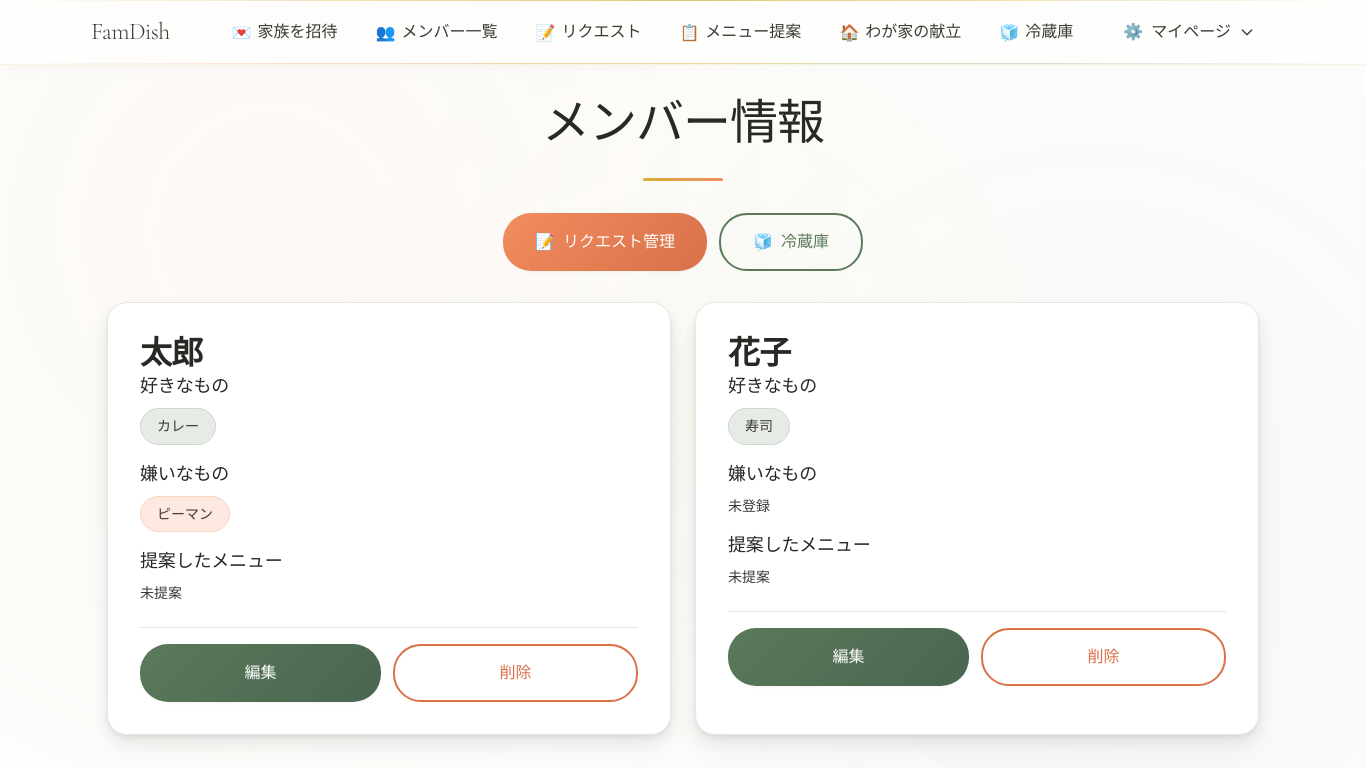
Test: MemberForm › 編集モーダルで「キャンセル」すると閉じる
Expected: the heading "太郎" is shown, [140,334,203,373]
Click the button "編集" below "ピーマン": (260, 673) [140,644,381,702]
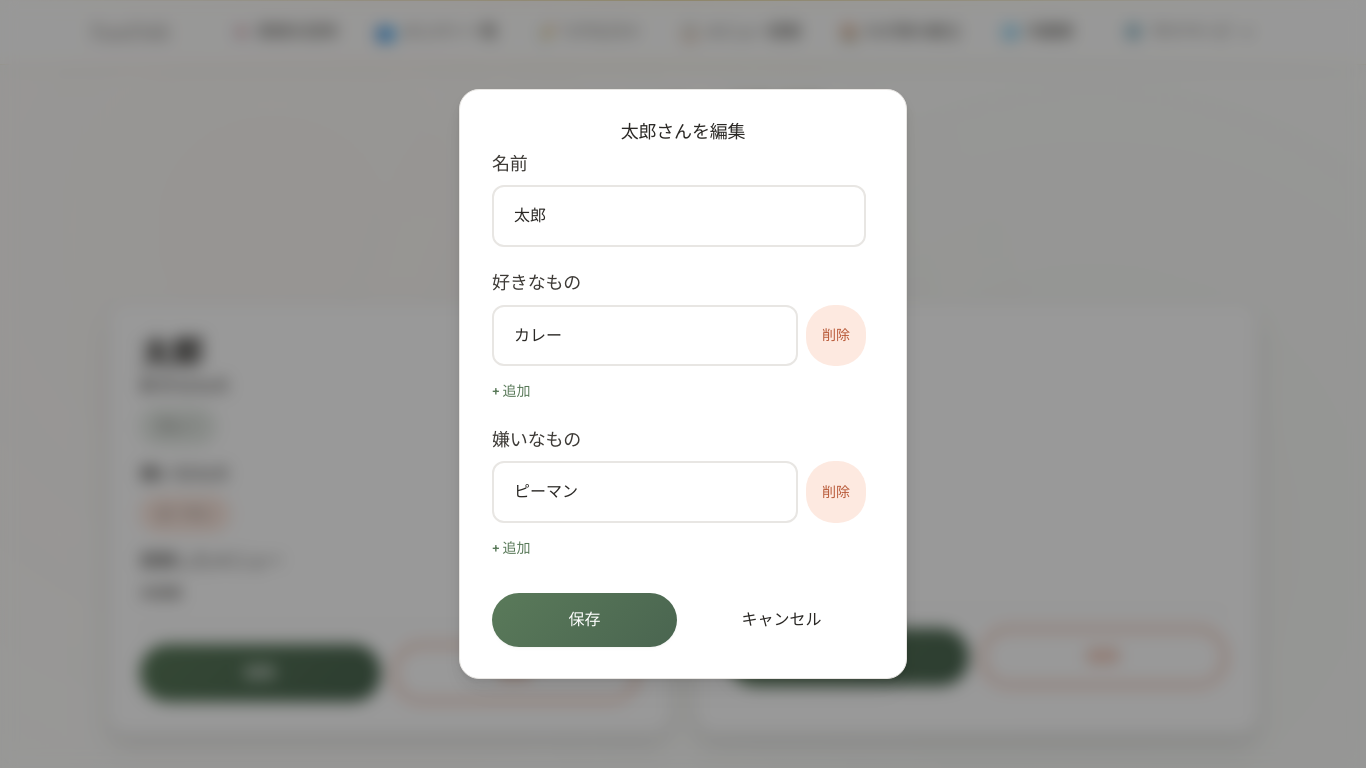
Expected: the heading "太郎さんを編集" is shown, [621,121,745,143]
Click the button "キャンセル": (782, 619) [689,592,874,646]
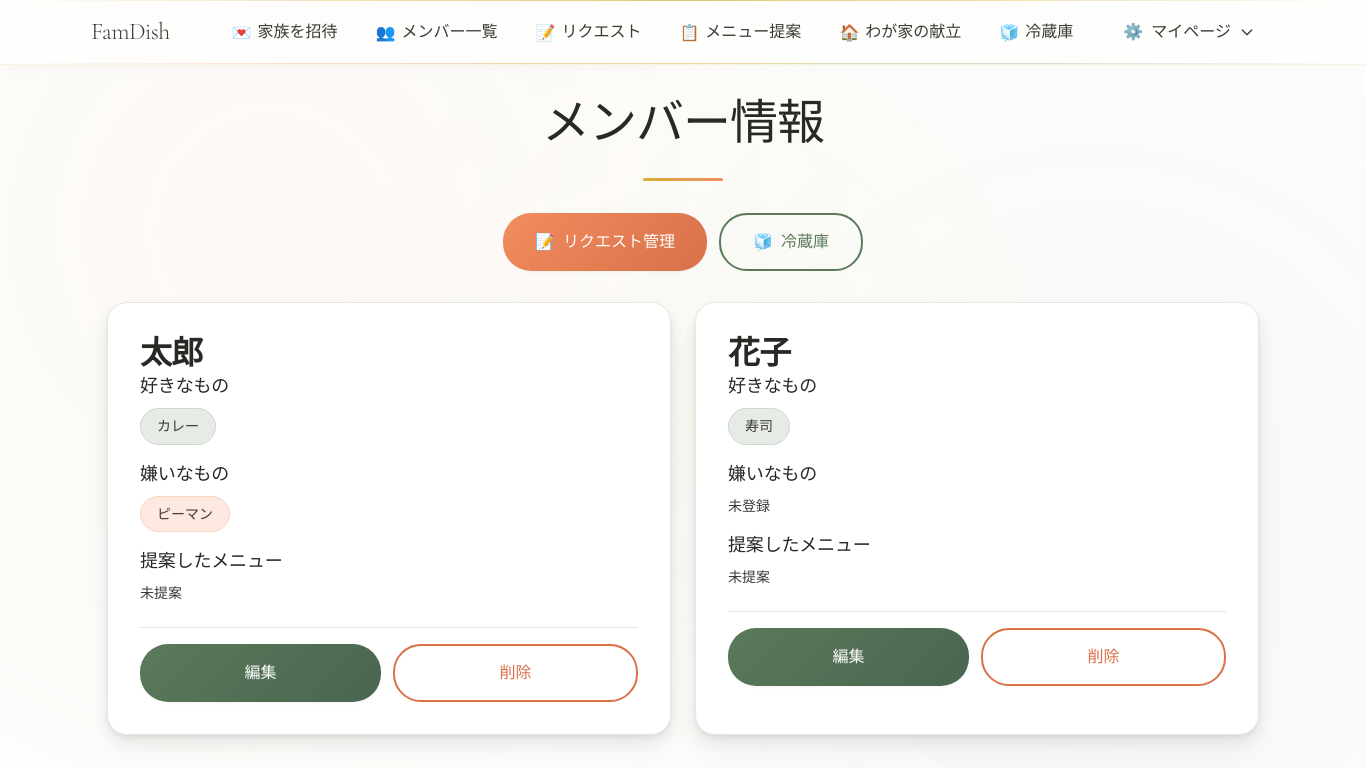
Expected: the heading "太郎さんを編集" is gone
